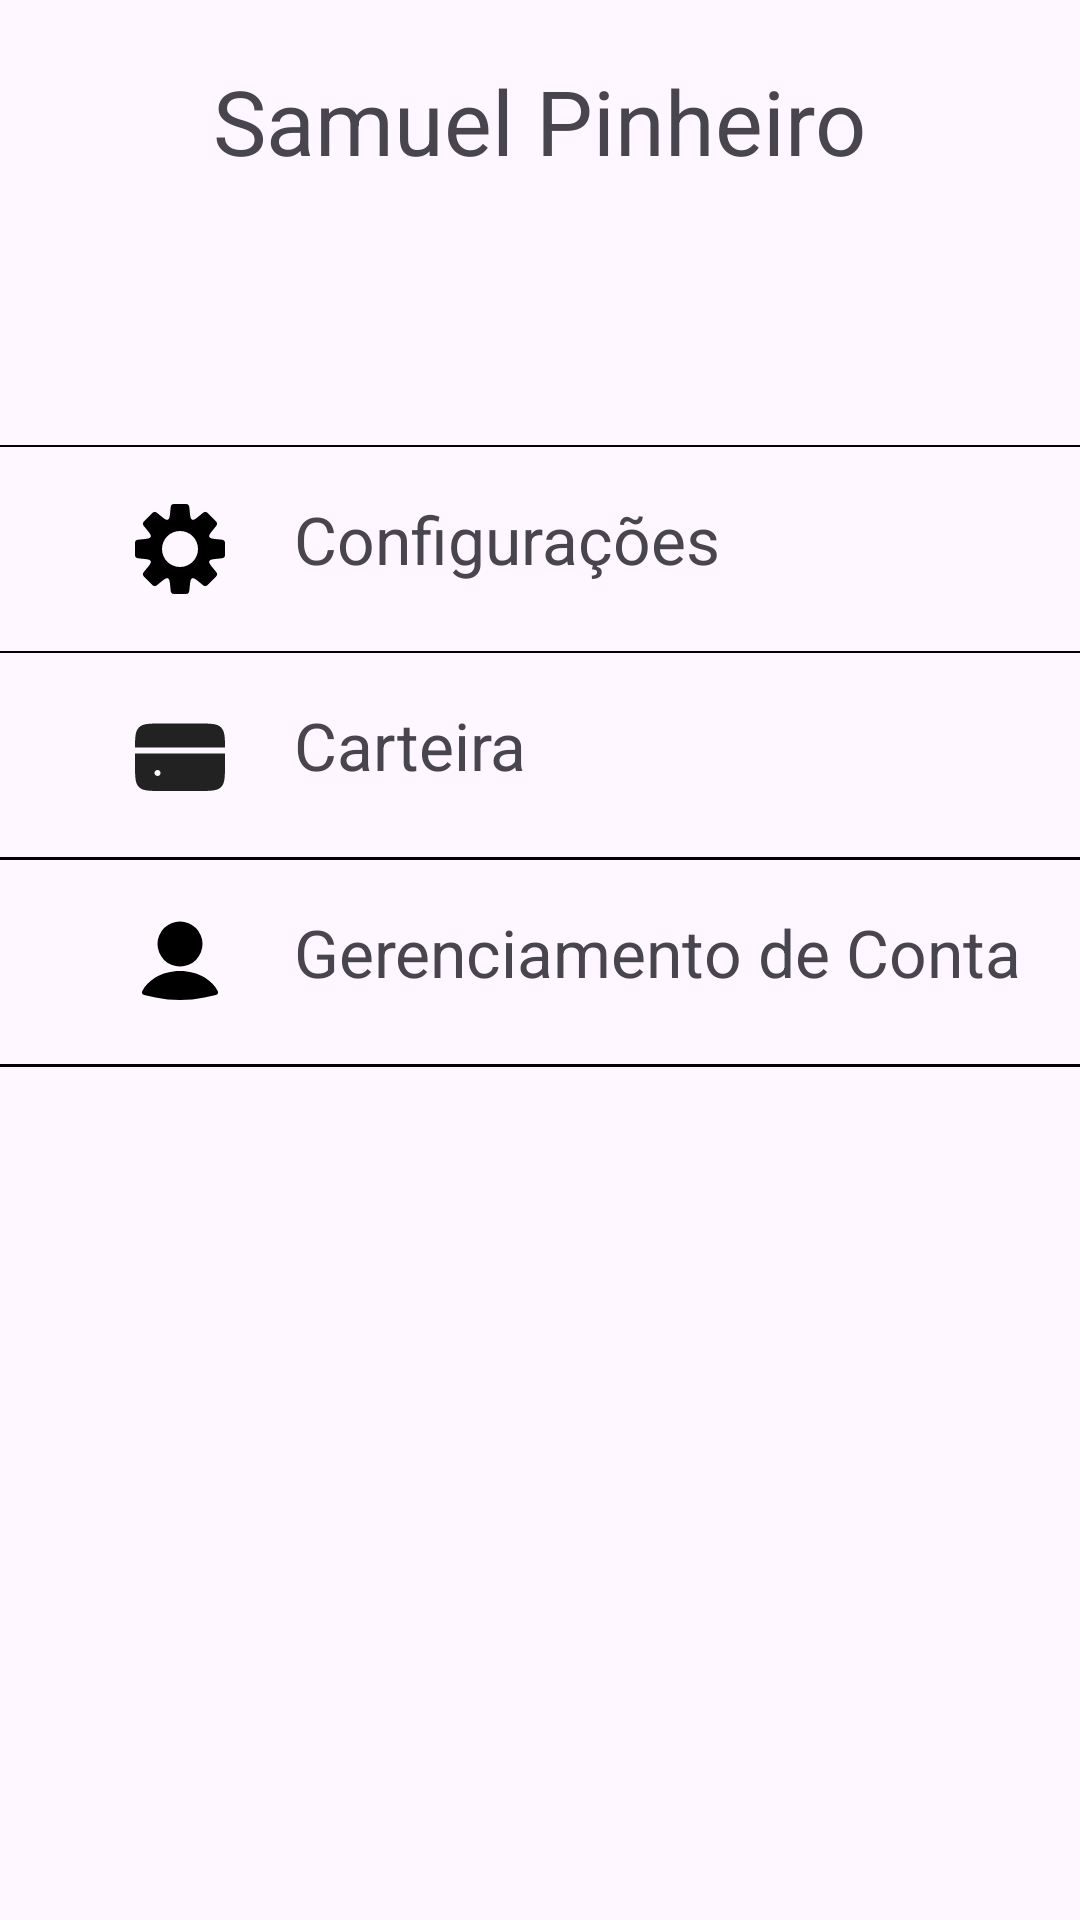

Icon click points for this 1080×1920 phone screenshot, format point (x, y):
credit card: point (180, 757)
setting: point (180, 549)
user: point (180, 960)
